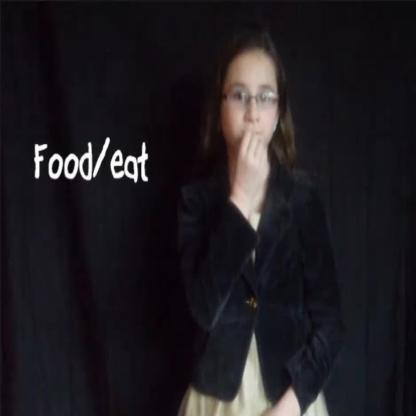Food: (210, 21, 310, 209)
